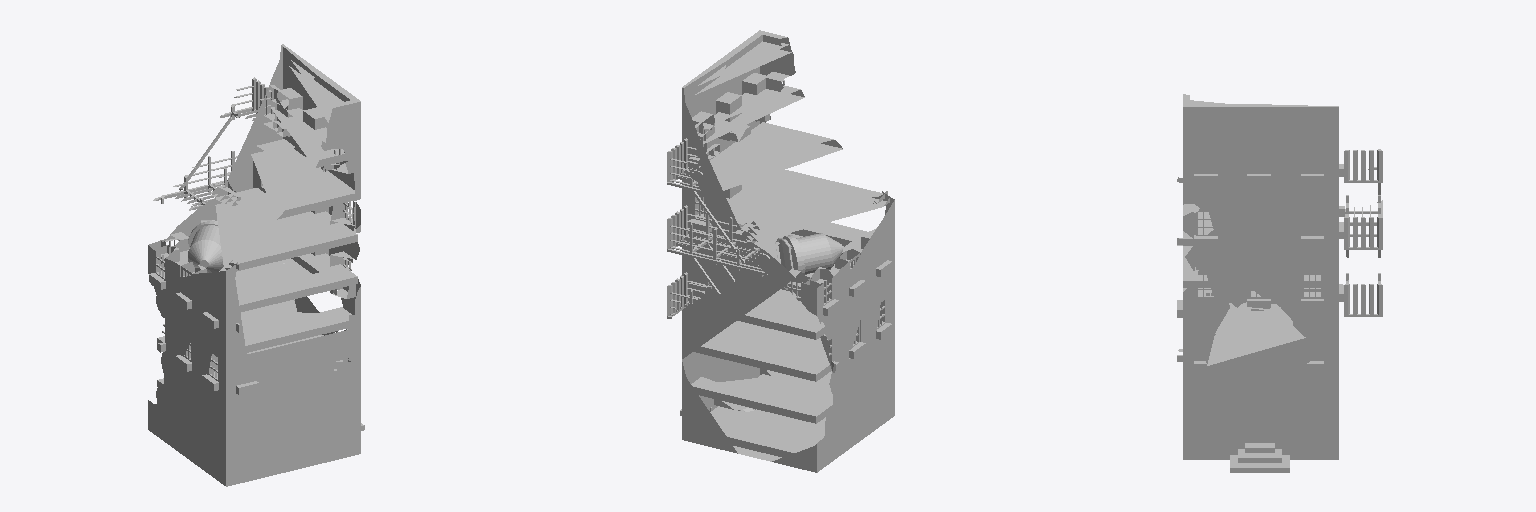
File: Building 2.obj
3 renders of one model, left to right at view 1: azimuth 30°, elevation 25°; view 2: azimuth 150°, elevation 25°; view 3: azimuth 270°, elevation 25°, orthographic.
Parts seen in each view (by area): view 1: BuildingB_Cube_Cube.012; view 2: BuildingB_Cube_Cube.012; view 3: BuildingB_Cube_Cube.012.
Boxes of the visible parts, box(x1,y1,x2,y2) form: BuildingB_Cube_Cube.012: box(148, 44, 364, 486); BuildingB_Cube_Cube.012: box(667, 30, 894, 472); BuildingB_Cube_Cube.012: box(1177, 94, 1382, 472).
Bounding box in the file's own units: 2.47 × 4.98 × 2.64.